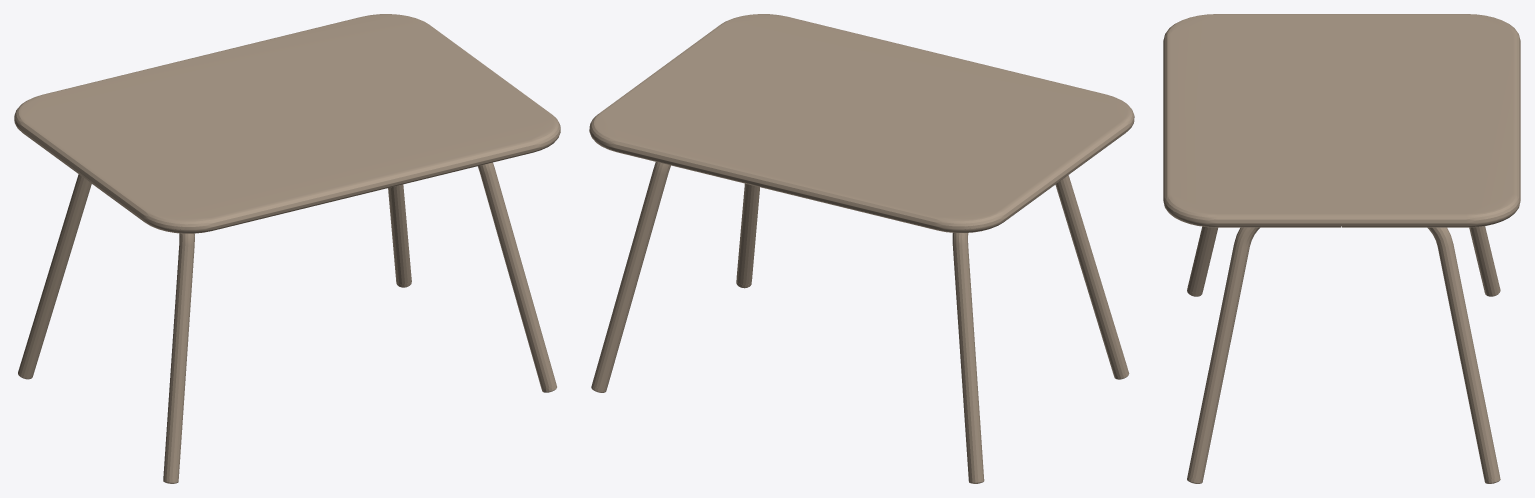
File: luxembourg-bambini-tisch-55x76.glb
3 views of the same model, side by side, from view 1: azimuth 30°, elevation 25°; view 2: azimuth 150°, elevation 25°; view 3: azimuth 270°, elevation 25° (orthographic). The views are drawn at different scales.
Parts seen in each view (by area): view 1: Gestell; view 2: Gestell; view 3: Gestell.
Part boxes in pixels (left/top/right/bottom): Gestell: left=14, top=14, right=560, bottom=483; Gestell: left=589, top=14, right=1134, bottom=483; Gestell: left=1163, top=14, right=1520, bottom=483.
Bounding box in the file's own units: 0.752 × 0.4685 × 0.5528.
